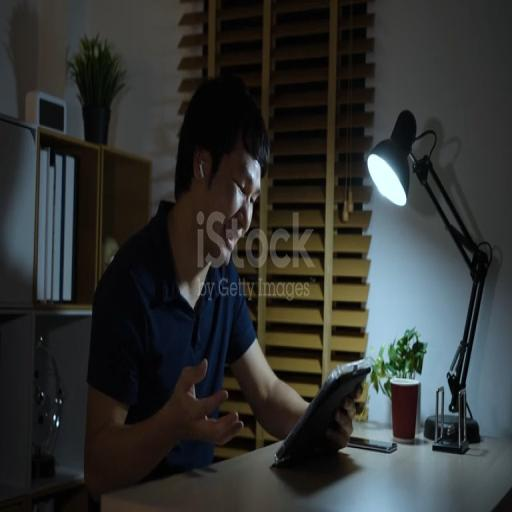earphone: (195, 151, 205, 179)
